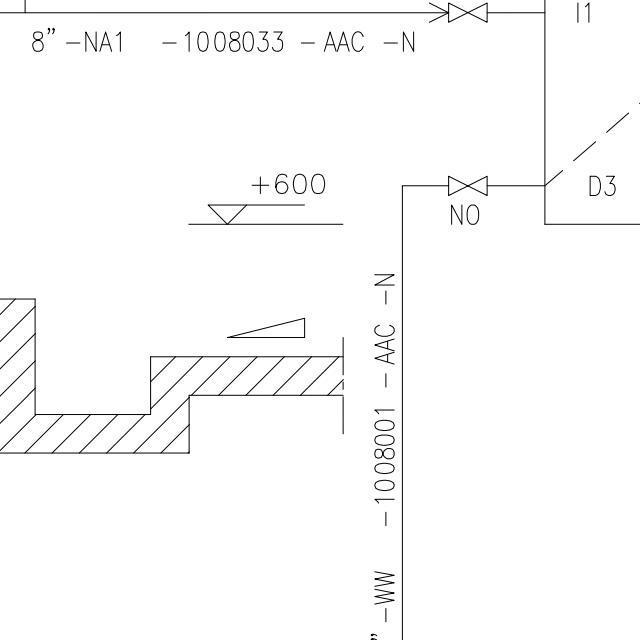GV: (442, 170, 492, 200), (442, 0, 493, 25)
